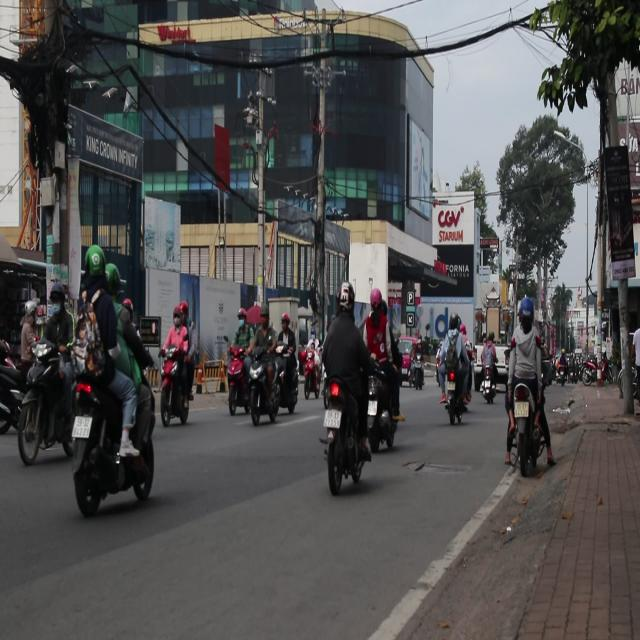motorbike: (72, 369, 160, 517), (18, 337, 80, 466), (316, 372, 372, 502), (507, 384, 553, 473), (243, 335, 281, 423), (158, 350, 194, 427), (0, 348, 26, 440), (224, 343, 252, 417), (368, 397, 398, 453), (478, 346, 500, 404), (446, 368, 464, 424), (408, 354, 425, 390)
